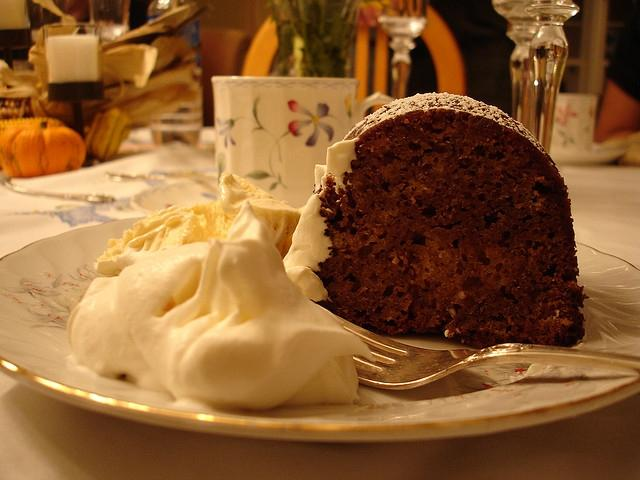pumpkin: (2, 120, 86, 178)
